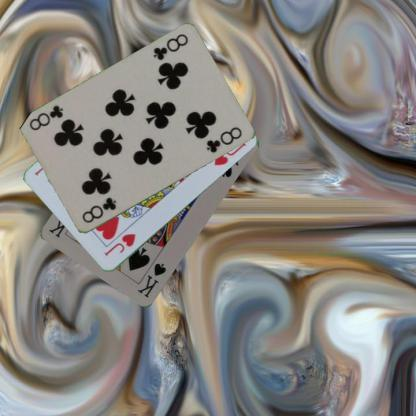8c: (150, 32, 190, 62), (80, 194, 118, 225)
Jh: (101, 231, 137, 258)
Ks: (134, 260, 167, 300)
